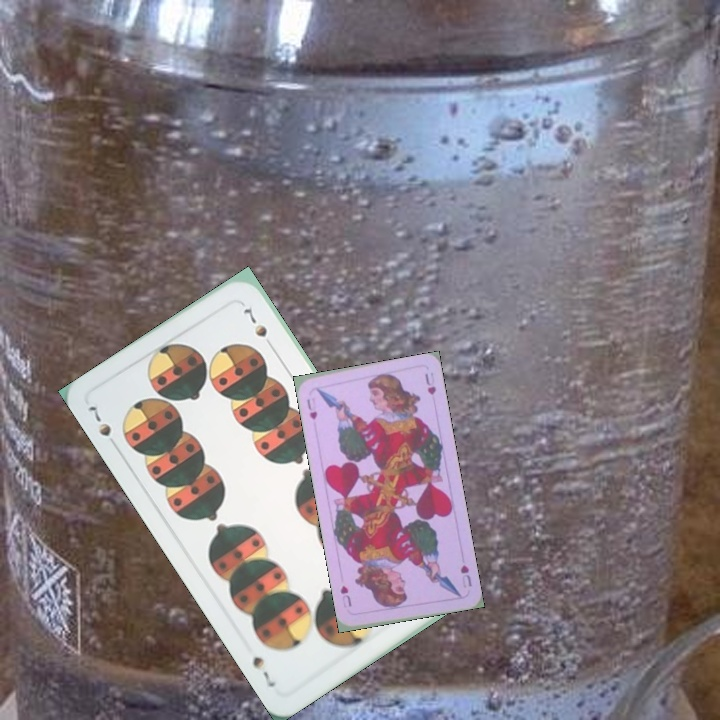HU: (456, 561, 474, 590), (303, 395, 320, 422)
S7: (85, 399, 122, 452)
